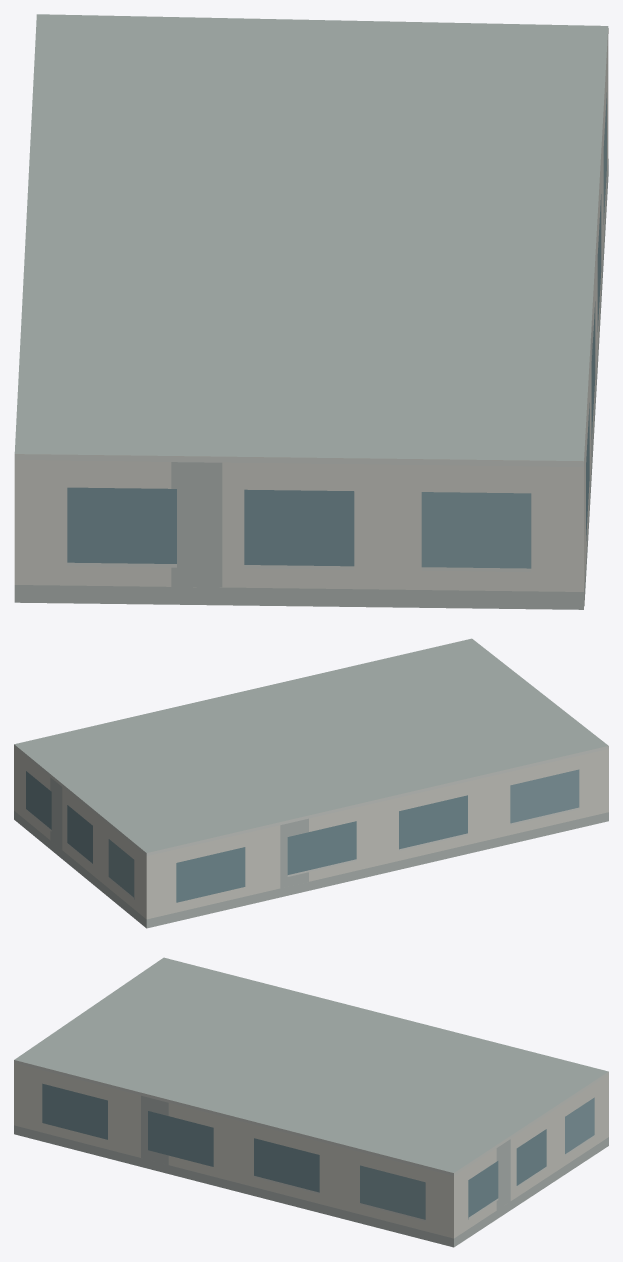
File: survey-upis-32456950.glb
The picture shows the model from 3 angles, top to bottom: view 1: azimuth 30°, elevation 25°; view 2: azimuth 150°, elevation 25°; view 3: azimuth 270°, elevation 25°; orthographic projection. The views are drawn at different scales.
Visible parts, largest first — view 1: survey-upis-32456950.tmp; view 2: survey-upis-32456950.tmp; view 3: survey-upis-32456950.tmp.
Part boxes in pixels (box(x1,y1,x2,y2)): survey-upis-32456950.tmp: box(14, 14, 608, 609); survey-upis-32456950.tmp: box(14, 638, 608, 928); survey-upis-32456950.tmp: box(14, 957, 608, 1247).
Bounding box in the file's own units: 19 × 3.05 × 22.14.
